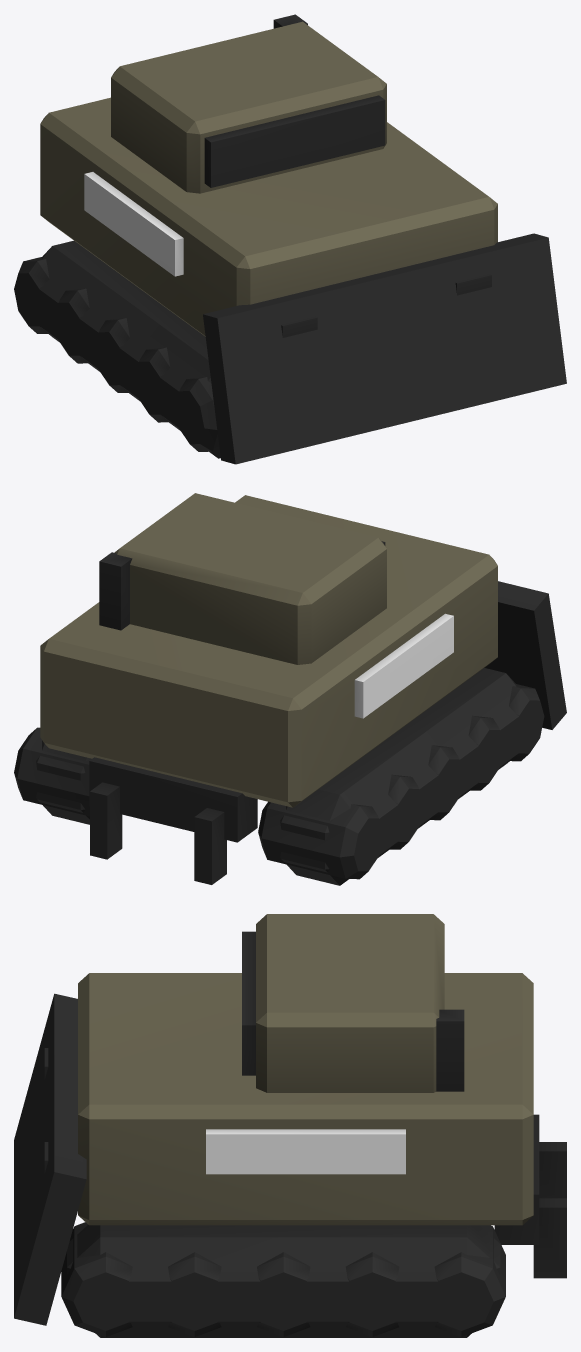
The model's file is ru-dozer.glb.
3 views of the same model, one above another, from view 1: azimuth 30°, elevation 25°; view 2: azimuth 150°, elevation 25°; view 3: azimuth 270°, elevation 25° (orthographic). The views are drawn at different scales.
Parts seen in each view (by area): view 1: ru-dozer; view 2: ru-dozer; view 3: ru-dozer.
Part boxes in pixels (x1,y1,x2,y2): ru-dozer: (14,14,566,464); ru-dozer: (14,493,566,885); ru-dozer: (14,914,566,1337).
Bounding box in the file's own units: 0.78 × 0.59 × 0.9954.
